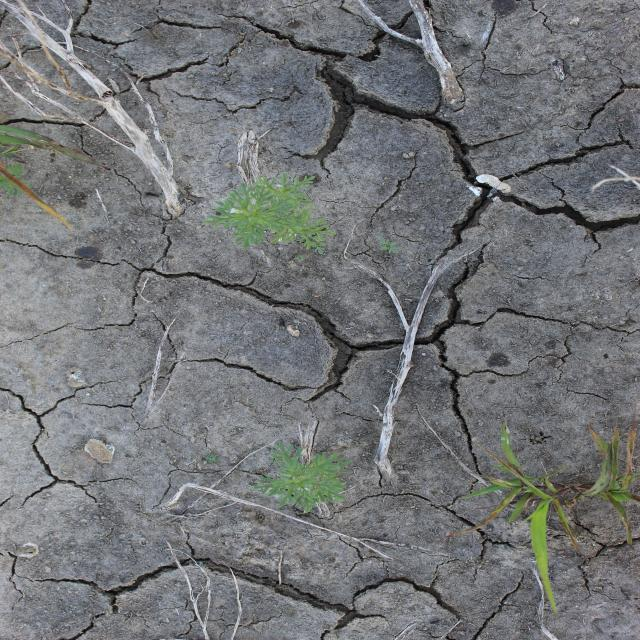Ragweed: (198, 170, 338, 256), (247, 437, 354, 515)
